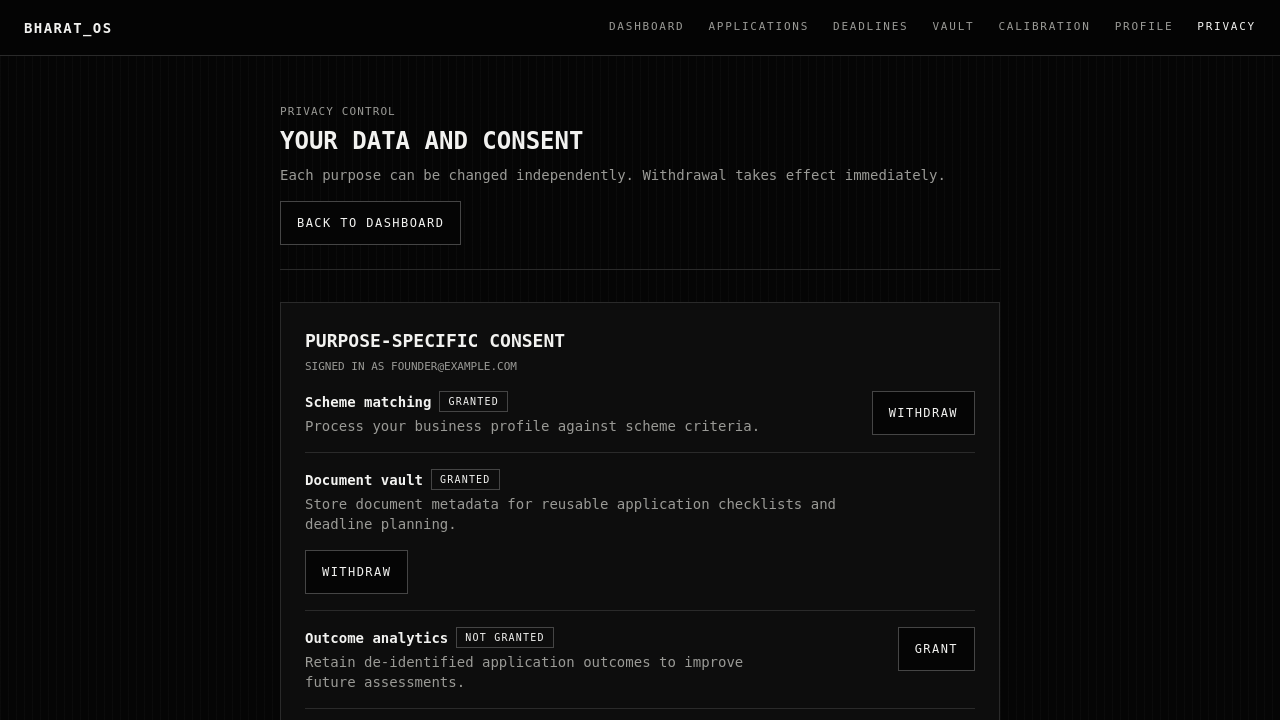
Test: SettingsPage › confirms destructive consent withdrawal and reflects the API result
Expected: the heading "Your data and consent" is shown, 280,126 -> 583,154
Click the button "Withdraw" in the row of "Scheme matching" at {"x": 923, "y": 413}, box 872,391 -> 975,435
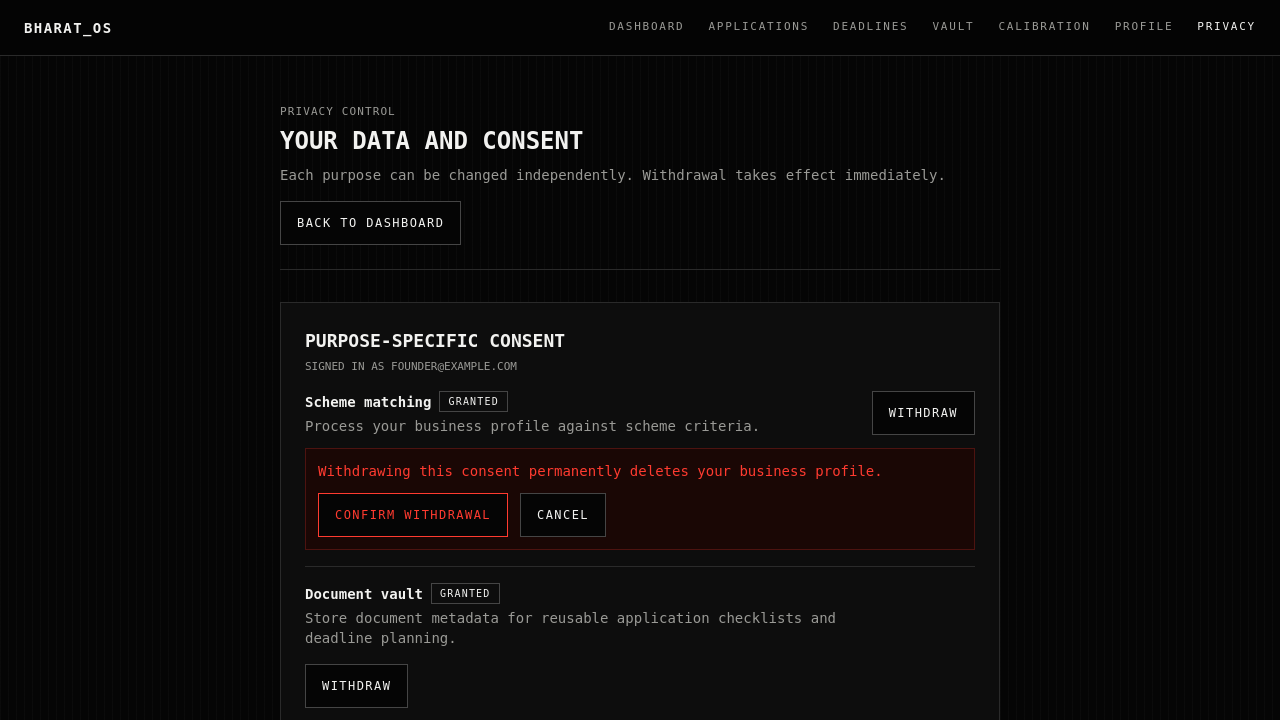
Expected: the text "permanently deletes your business profile" is shown, 318,463 -> 883,479
Click the button "Confirm withdrawal" at {"x": 413, "y": 515}, box 318,493 -> 508,537
(page scrolled)
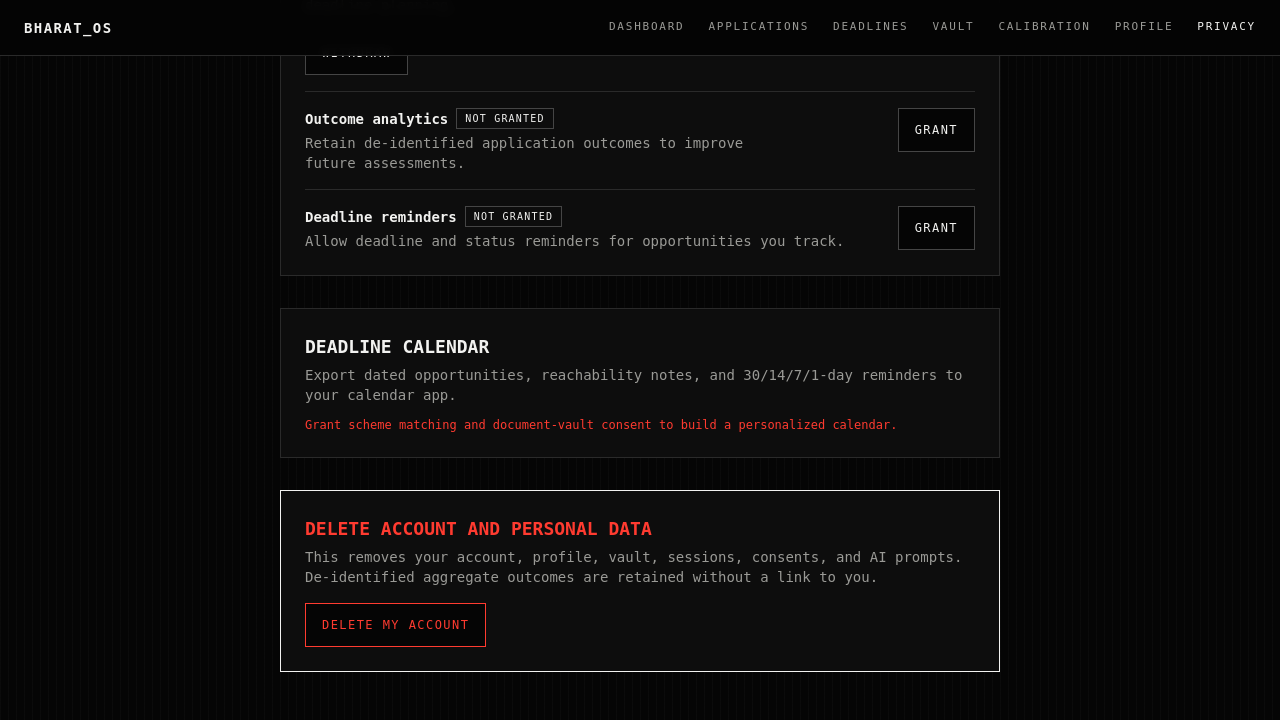
Expected: the text "Grant scheme matching and document-vault consent" is shown, 305,418 -> 897,432
